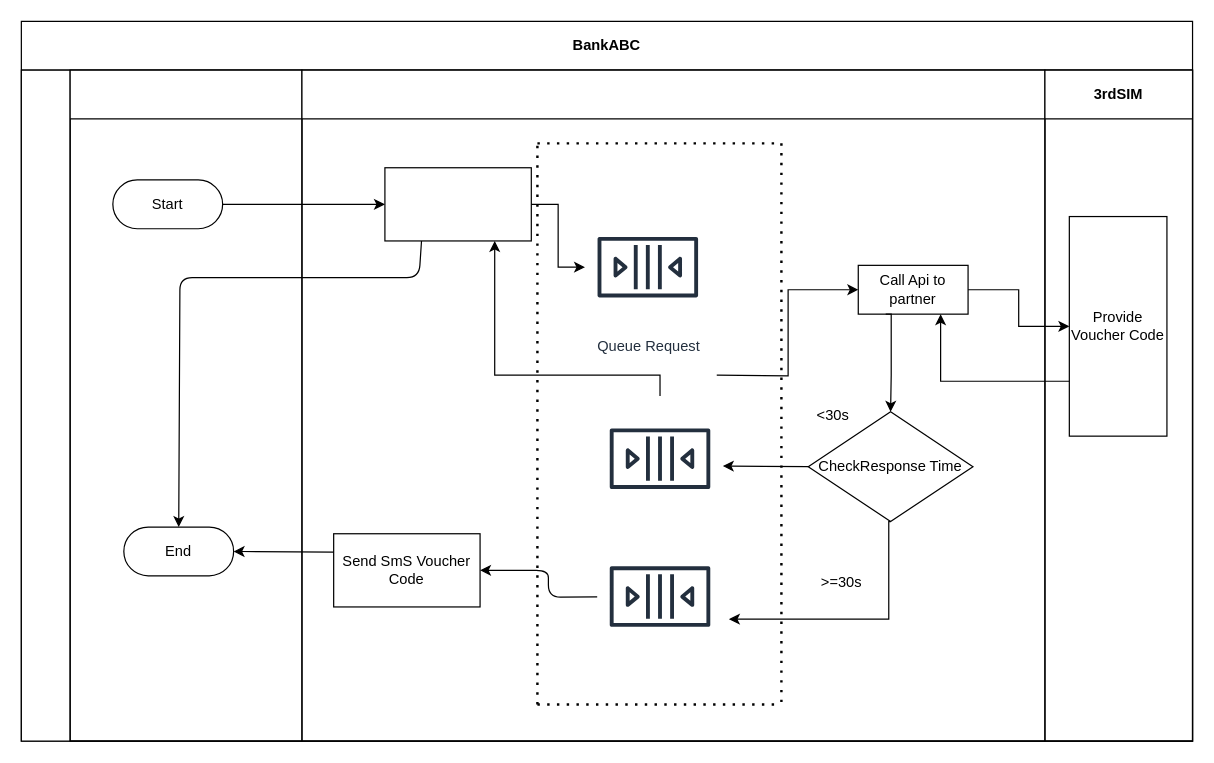
This 1214x763 diagram has some shape labels left out. The box of each missing label's shape, as (x1, y1, x2, y2) in pixels:
PurcharseVoucher: (384, 167, 531, 241)
Queue Response: (596, 395, 723, 522)
Queue SendSMS: (596, 533, 723, 659)
User Interface: (69, 69, 302, 741)
